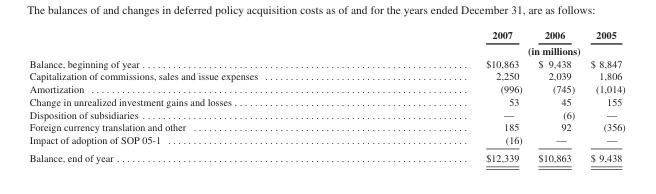table: (28, 28, 624, 163)
table column: (28, 28, 371, 163), (371, 28, 529, 163), (529, 28, 582, 163), (582, 28, 624, 163)
table column header: (28, 28, 624, 56)
table row: (28, 133, 624, 148), (28, 148, 624, 163), (28, 28, 624, 42), (28, 42, 624, 56), (28, 56, 624, 69), (28, 69, 624, 82), (28, 82, 624, 95), (28, 107, 624, 120), (28, 120, 624, 133), (28, 95, 624, 107)
table spanning cell: (371, 42, 624, 56)
